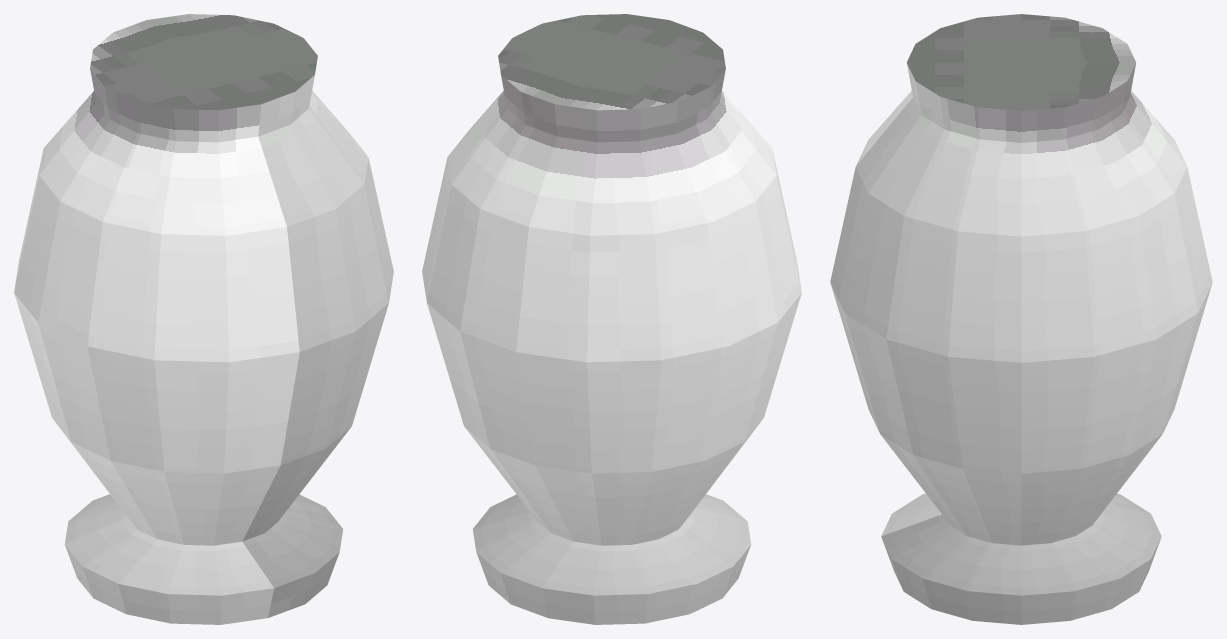
Rendered from Building_Urn.glb.
3 views of the same model, side by side, from view 1: azimuth 30°, elevation 25°; view 2: azimuth 150°, elevation 25°; view 3: azimuth 270°, elevation 25° (orthographic).
Parts seen in each view (by area): view 1: Urn; view 2: Urn; view 3: Urn.
Part boxes in pixels (box(x1,y1,x2,y2)): Urn: box(14, 14, 393, 624); Urn: box(422, 14, 801, 624); Urn: box(830, 14, 1212, 624).
Size of the model in its own units: 0.6 by 0.88 by 0.6.
Materials: 1 (1 with a texture image).
